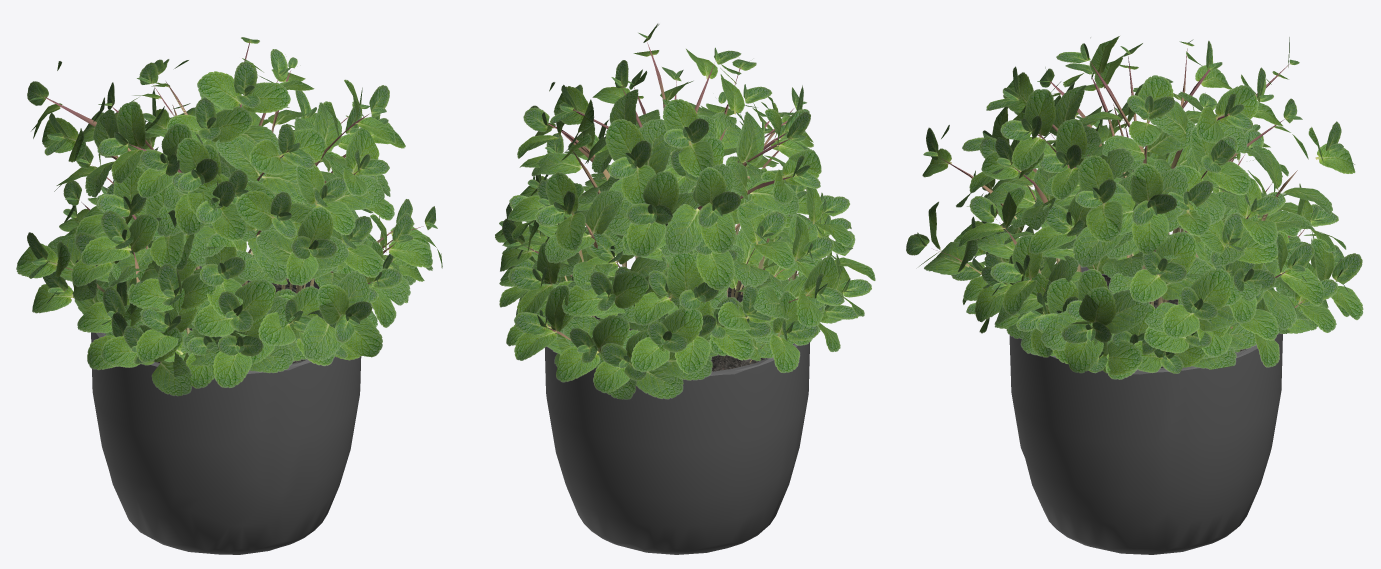
The model's file is indoor_planter.glb.
3 views of the same model, side by side, from view 1: azimuth 30°, elevation 25°; view 2: azimuth 150°, elevation 25°; view 3: azimuth 270°, elevation 25° (orthographic). The views are drawn at different scales.
Parts seen in each view (by area): view 1: 3DGeom~19 [32021017]_2, 3DGeom~21 [32021023]_4, 3DGeom~20 [32021020]_3, 3DGeom~18 [32021032]_7, 3DGeom~17 [32021029]_6; view 2: 3DGeom~19 [32021017]_2, 3DGeom~21 [32021023]_4, 3DGeom~18 [32021032]_7, 3DGeom~20 [32021020]_3, 3DGeom~17 [32021029]_6, 3DGeom~16 [32021026]_5; view 3: 3DGeom~19 [32021017]_2, 3DGeom~21 [32021023]_4, 3DGeom~18 [32021032]_7, 3DGeom~20 [32021020]_3, 3DGeom~17 [32021029]_6.
Boxes of the visible parts, x1,y1,x2,y2 form: 3DGeom~19 [32021017]_2: (16,58,442,388); 3DGeom~21 [32021023]_4: (91,266,361,554); 3DGeom~20 [32021020]_3: (27,37,437,364); 3DGeom~18 [32021032]_7: (48,75,432,396); 3DGeom~17 [32021029]_6: (45,41,423,362); 3DGeom~19 [32021017]_2: (495,49,875,392); 3DGeom~21 [32021023]_4: (545,269,809,554); 3DGeom~18 [32021032]_7: (502,80,842,399); 3DGeom~20 [32021020]_3: (499,23,871,380); 3DGeom~17 [32021029]_6: (524,42,810,362); 3DGeom~16 [32021026]_5: (592,286,766,371); 3DGeom~19 [32021017]_2: (919,36,1363,379); 3DGeom~21 [32021023]_4: (1009,266,1282,554); 3DGeom~18 [32021032]_7: (924,78,1332,369); 3DGeom~20 [32021020]_3: (906,37,1362,373); 3DGeom~17 [32021029]_6: (933,48,1305,328).
Bounding box in the file's own units: 0.3702 × 0.4494 × 0.3887.
Materials: 7 (6 with a texture image).
